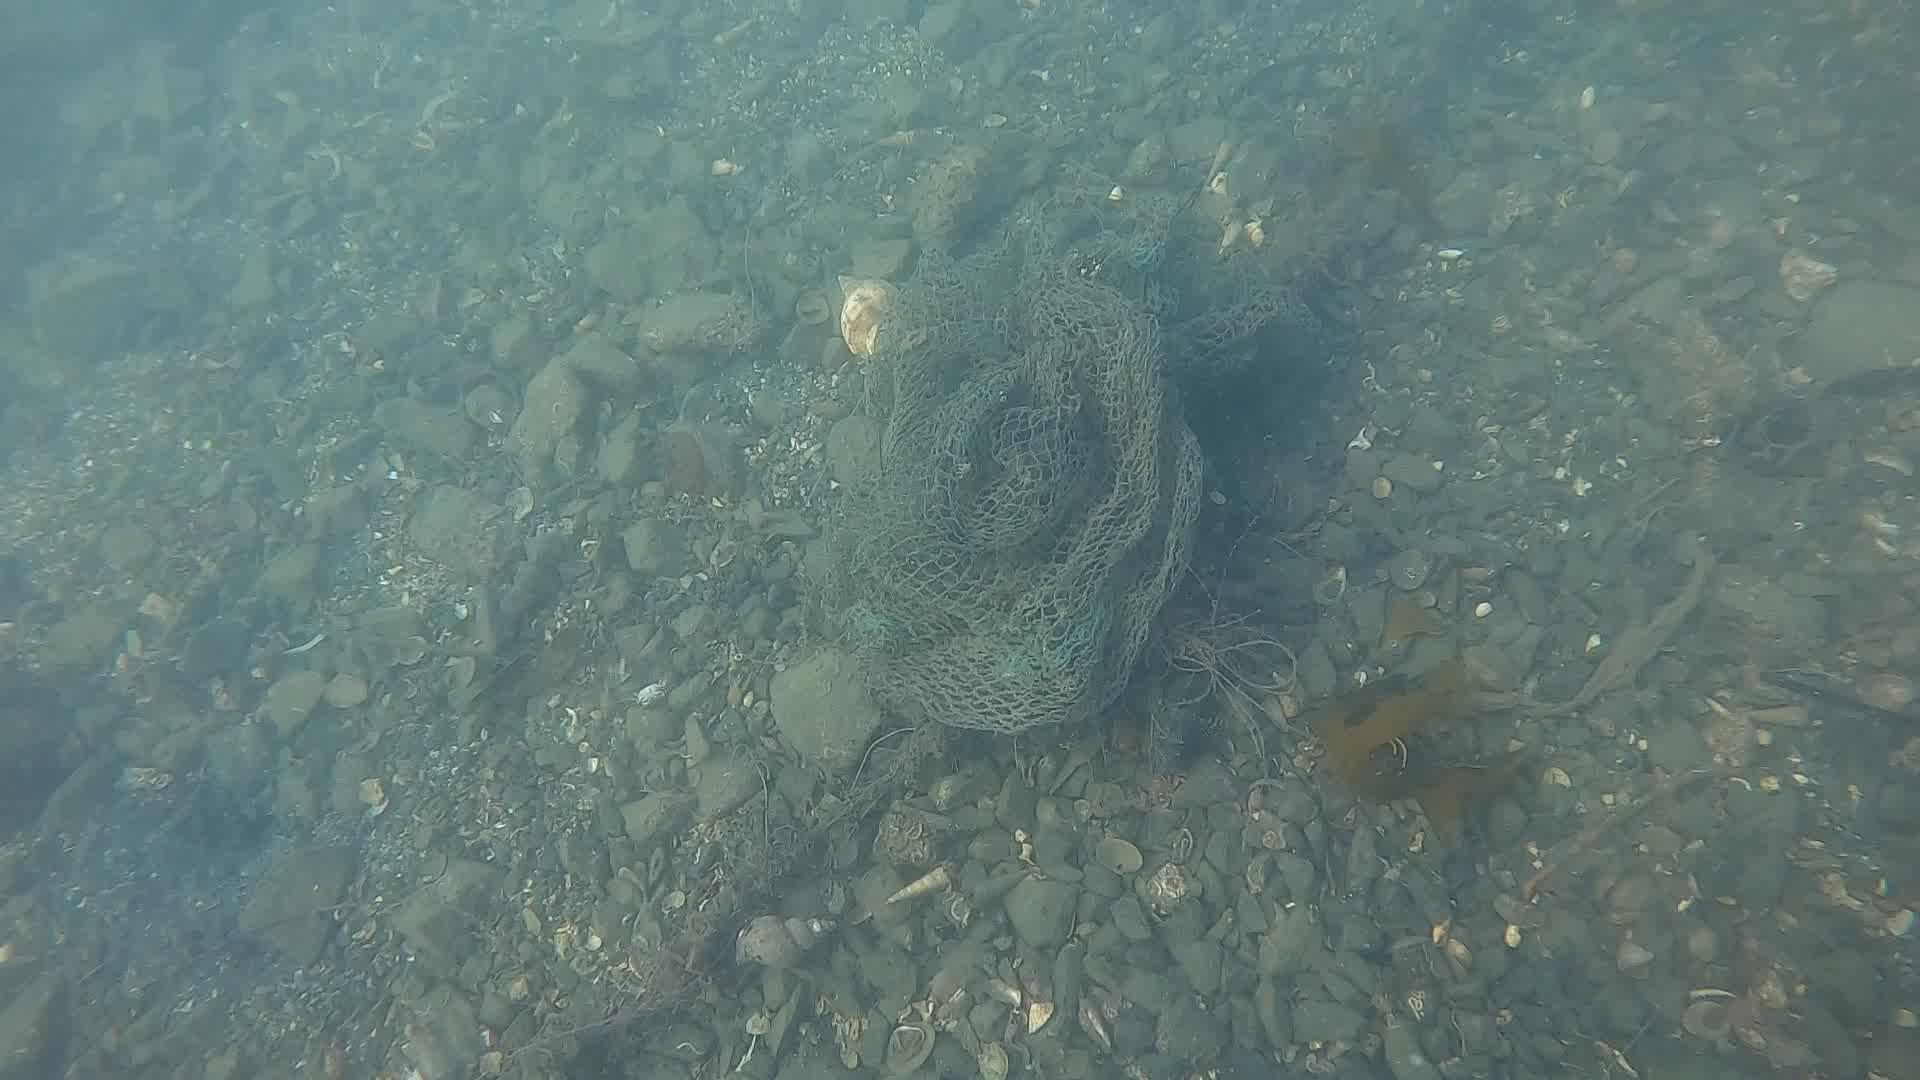fish net: (857, 237, 1278, 738)
